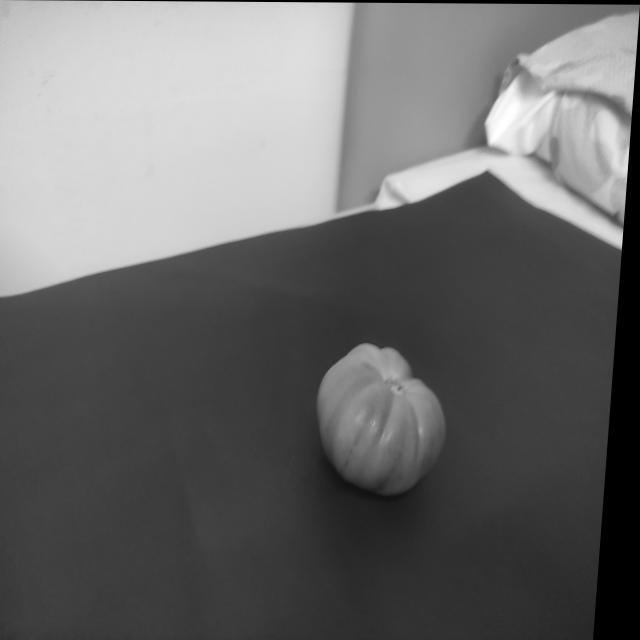yesil: (308, 332, 465, 499)
